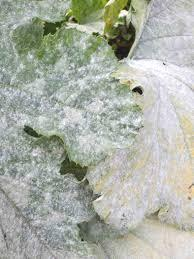Bok-Choy-Diseased: (0, 13, 130, 158)
